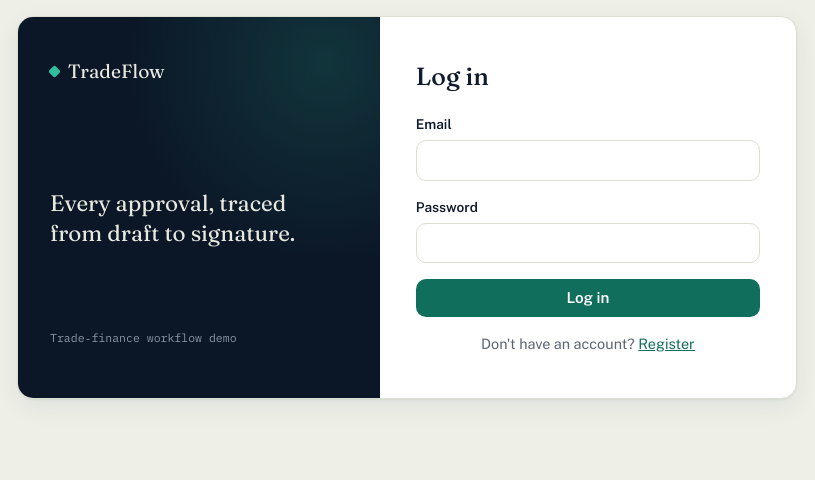
Test: <Login /> › shows the server error message when login fails
Type "user@example.com" into the field labelled "Email" at (588, 160), box x1=416 y1=140 x2=760 y2=181
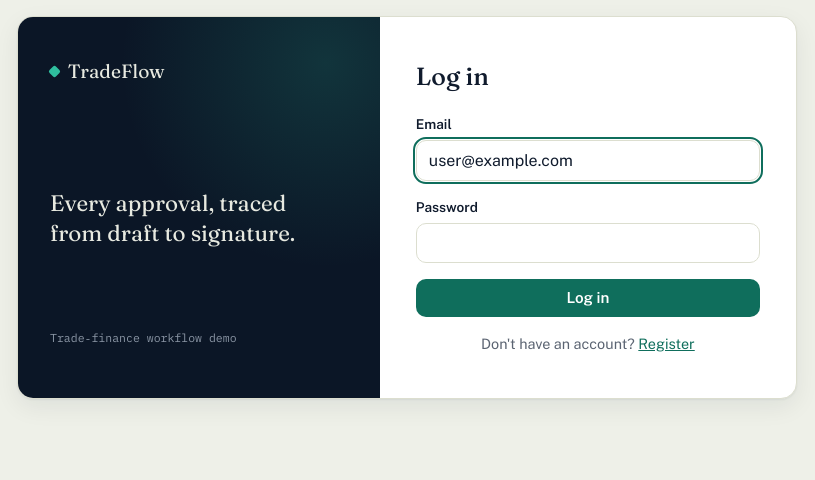
Type "wrongpassword" into the password field labelled "Password" at (588, 243), box x1=416 y1=222 x2=760 y2=263
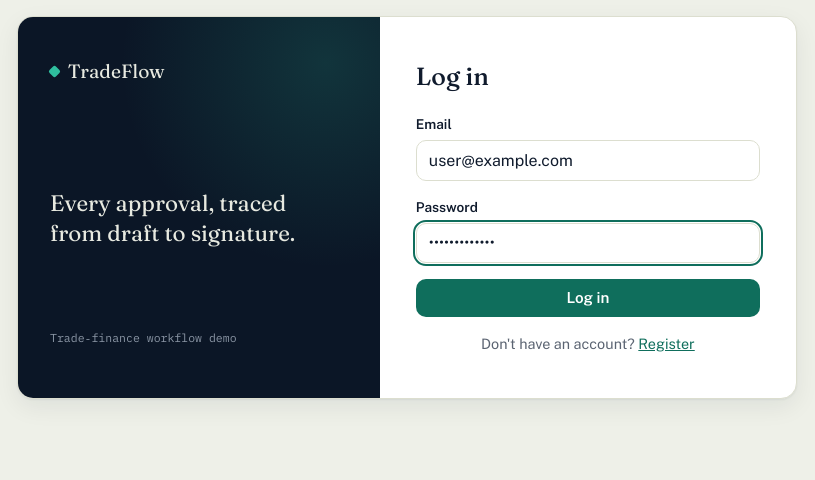
Click the button "Log in" at (588, 298), box x1=416 y1=279 x2=760 y2=316
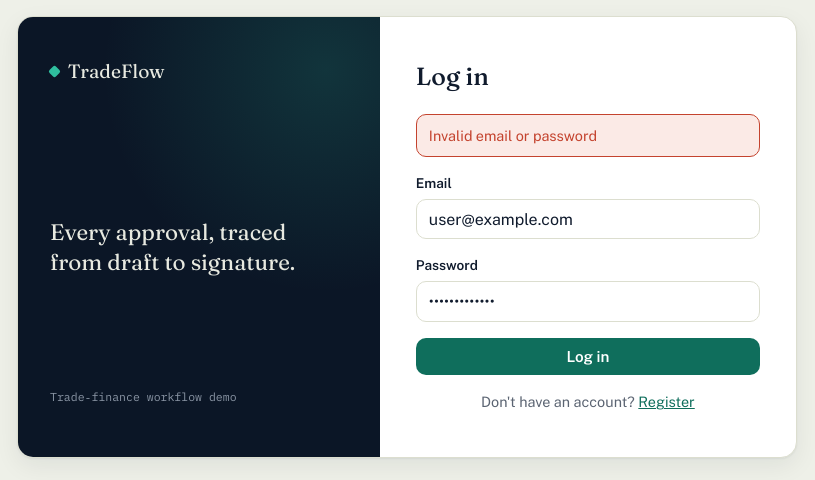
Now the text "Invalid email or password" is shown, box x1=416 y1=114 x2=760 y2=157
